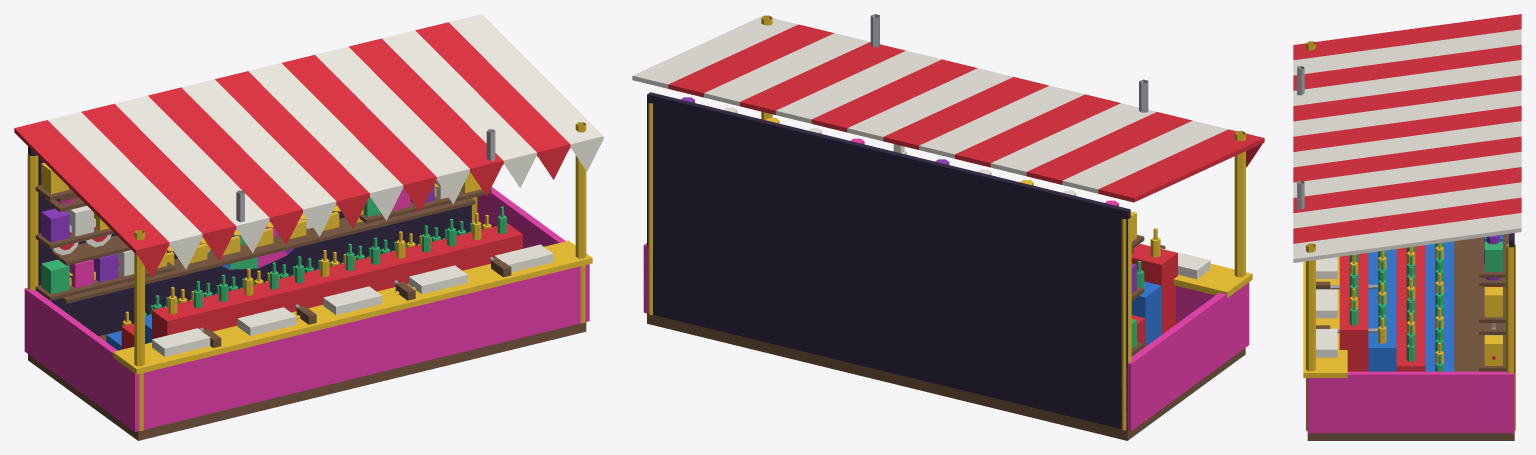
File: wiaty.glb
3 views of the same model, side by side, from view 1: azimuth 30°, elevation 25°; view 2: azimuth 150°, elevation 25°; view 3: azimuth 270°, elevation 25° (orthographic). The views are drawn at different scales.
Parts seen in each view (by area): view 1: wiata_loteria_b, wiata_pierscienie_b, wiata_strzelnica_b; view 2: wiata_loteria_b, wiata_pierscienie_b; view 3: wiata_loteria_b, wiata_pierscienie_b, wiata_strzelnica_b.
Boxes of the visible parts, x1,y1,x2,y2 form: wiata_loteria_b: (14,14,603,440); wiata_pierscienie_b: (57,187,522,350); wiata_strzelnica_b: (45,183,511,347); wiata_loteria_b: (632,14,1264,440); wiata_pierscienie_b: (681,97,1177,347); wiata_loteria_b: (1293,14,1521,440); wiata_pierscienie_b: (1339,235,1499,371); wiata_strzelnica_b: (1316,241,1505,359).
Bounding box in the file's own units: 7.1 × 3.36 × 3.2.
